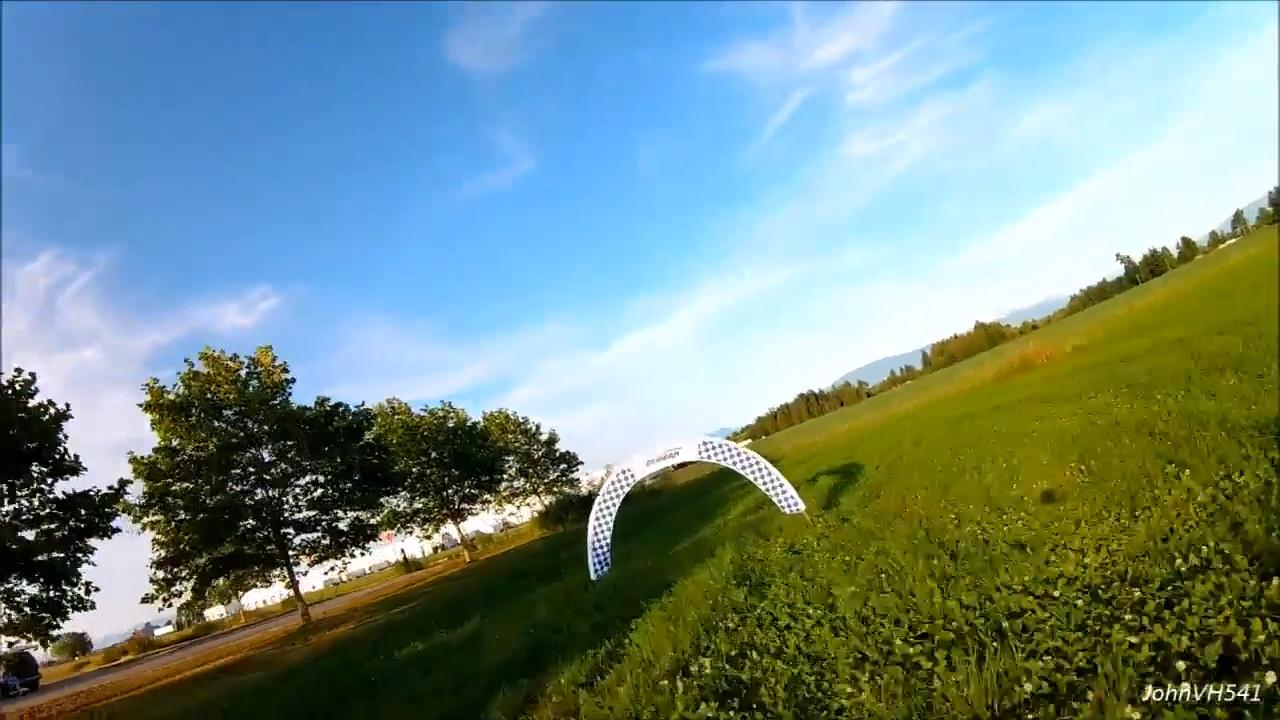gate: (585, 435, 809, 579)
